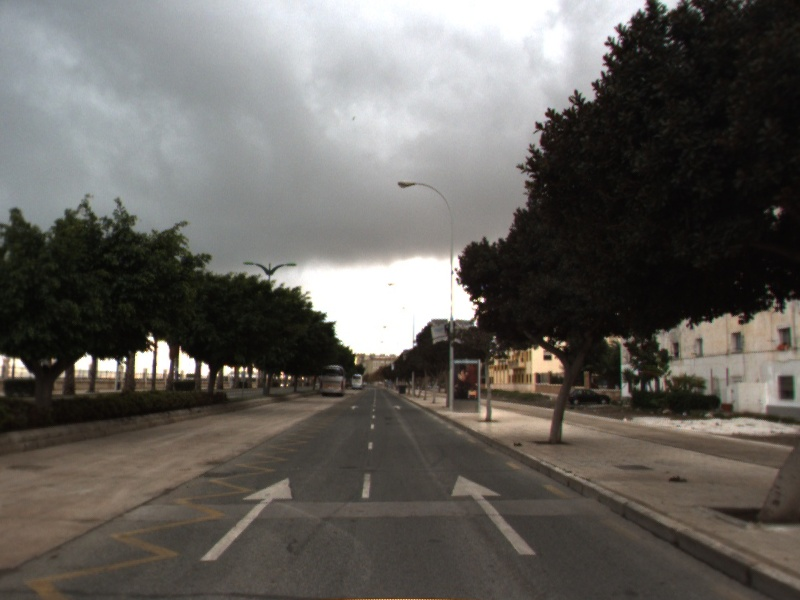STRAIGHT: (197, 475, 296, 564), (448, 472, 541, 558)
